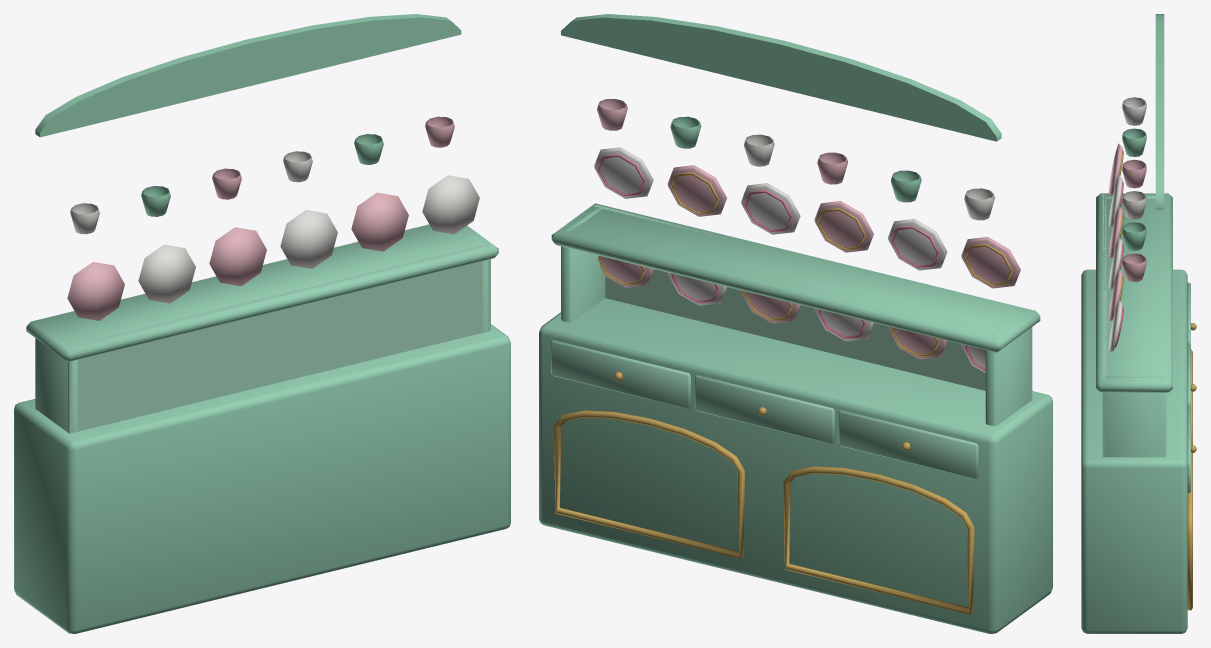
File: dresser_crockery.glb
3 renders of one model, left to right at view 1: azimuth 30°, elevation 25°; view 2: azimuth 150°, elevation 25°; view 3: azimuth 270°, elevation 25°, orthographic. The views are drawn at different scales.
Parts seen in each view (by area): view 1: dresser_crockery; view 2: dresser_crockery; view 3: dresser_crockery.
Part boxes in pixels (x1,y1,x2,y2): dresser_crockery: (14,14,510,633); dresser_crockery: (539,14,1052,633); dresser_crockery: (1081,14,1196,633).
Size of what is drawn, in the model's own units: 2 by 2.2 by 0.5.
